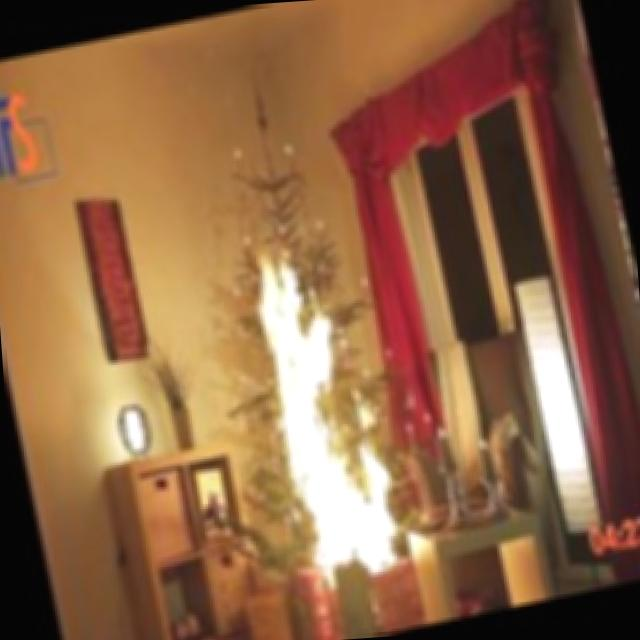fire: (212, 188, 440, 590)
